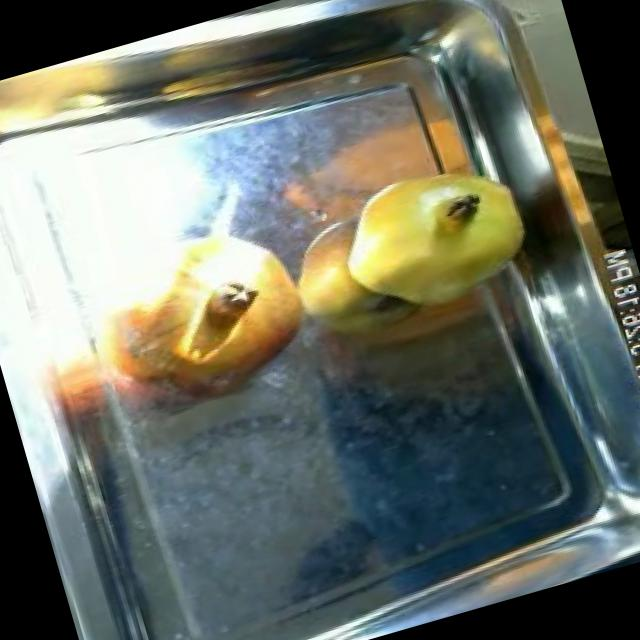fruit: (87, 197, 336, 431), (317, 138, 552, 338)
